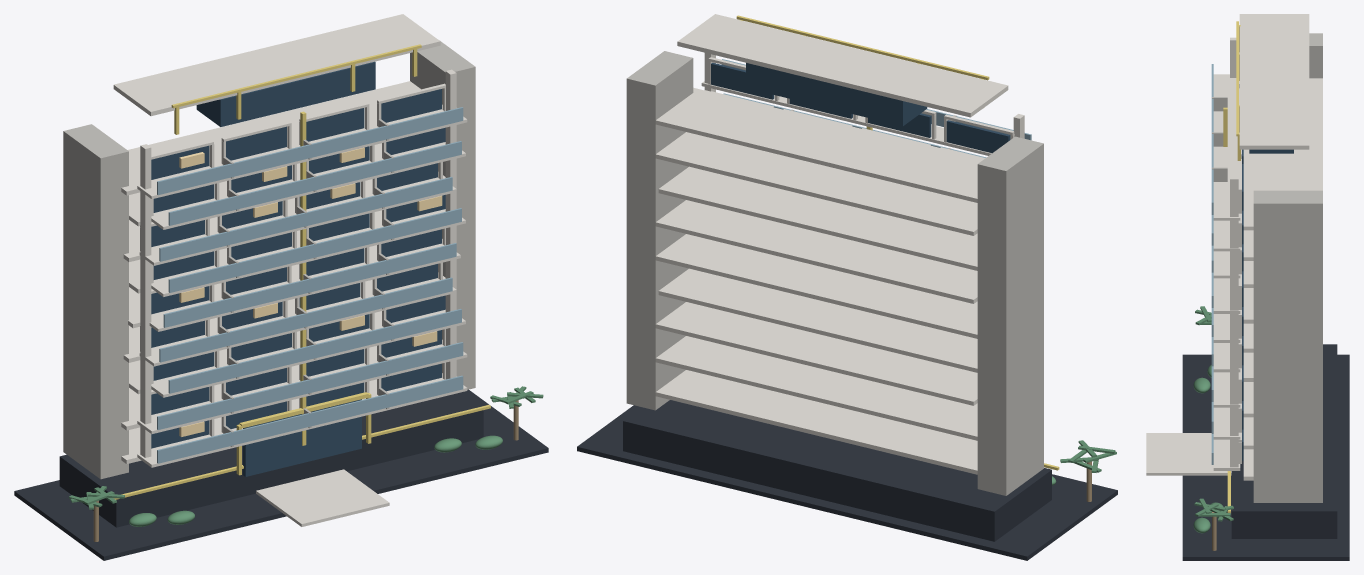
Rendered from neurora_tower_v2.glb.
The picture shows the model from 3 angles, left to right: view 1: azimuth 30°, elevation 25°; view 2: azimuth 150°, elevation 25°; view 3: azimuth 270°, elevation 25°; orthographic projection. The views are drawn at different scales.
Visible parts, largest first — view 1: left_shadow_side_core, black_podium_main_base, landscape_platform, roof_floating_white_canopy, right_shadow_side_core, floor_09_stone_slab, roof_terrace_dark_glass_penthouse, floor_01_glass_balcony_rail, floor_09_glass_balcony_rail, floor_02_glass_balcony_rail, front_marble_walkway, floor_04_glass_balcony_rail (+56 smaller); view 2: black_podium_main_base, left_shadow_side_core, right_shadow_side_core, floor_09_stone_slab, roof_floating_white_canopy, floor_02_stone_slab, floor_05_stone_slab, floor_01_stone_slab, floor_03_stone_slab, floor_08_stone_slab, floor_06_stone_slab, floor_07_stone_slab (+8 smaller); view 3: right_shadow_side_core, landscape_platform, roof_floating_white_canopy, black_podium_main_base, floor_09_stone_slab, front_marble_walkway, floor_09_front_balcony_slab, vertical_facade_fin_2.95, floor_03_front_balcony_slab, floor_06_front_balcony_slab, left_shadow_side_core, floor_02_front_balcony_slab (+16 smaller).
Boxes of the visible parts, x1,y1,x2,y2 form: left_shadow_side_core: (63,124,128,479); black_podium_main_base: (59,392,483,527); landscape_platform: (14,389,548,560); roof_floating_white_canopy: (113,14,440,116); right_shadow_side_core: (410,40,475,389); floor_09_stone_slab: (121,81,443,195); roof_terrace_dark_glass_penthouse: (196,61,375,126); floor_01_glass_balcony_rail: (157,375,463,463); floor_09_glass_balcony_rail: (157,107,463,195); floor_02_glass_balcony_rail: (157,342,463,429); front_marble_walkway: (256,469,389,526); floor_04_glass_balcony_rail: (159,277,452,362); black_podium_main_base: (623,400,1051,541); left_shadow_side_core: (977,136,1043,495); right_shadow_side_core: (626,51,693,410); floor_09_stone_slab: (655,87,984,202); roof_floating_white_canopy: (677,14,1008,117); floor_02_stone_slab: (655,336,977,440); floor_05_stone_slab: (655,234,977,338); floor_01_stone_slab: (655,370,977,474); floor_03_stone_slab: (655,302,977,405); floor_08_stone_slab: (655,132,977,235); floor_06_stone_slab: (655,200,977,303); floor_07_stone_slab: (658,166,977,270); right_shadow_side_core: (1253,190,1322,502); landscape_platform: (1182,354,1349,560); roof_floating_white_canopy: (1239,14,1309,149); black_podium_main_base: (1231,344,1337,538); floor_09_stone_slab: (1243,78,1322,230); front_marble_walkway: (1146,433,1231,475); floor_09_front_balcony_slab: (1213,74,1240,220); vertical_facade_fin_2.95: (1230,176,1238,467); floor_03_front_balcony_slab: (1213,372,1240,407); floor_06_front_balcony_slab: (1213,278,1240,313); left_shadow_side_core: (1309,33,1322,78); floor_02_front_balcony_slab: (1213,407,1240,439).
Bounding box in the file's own units: 8.81 × 7.57 × 3.65.
